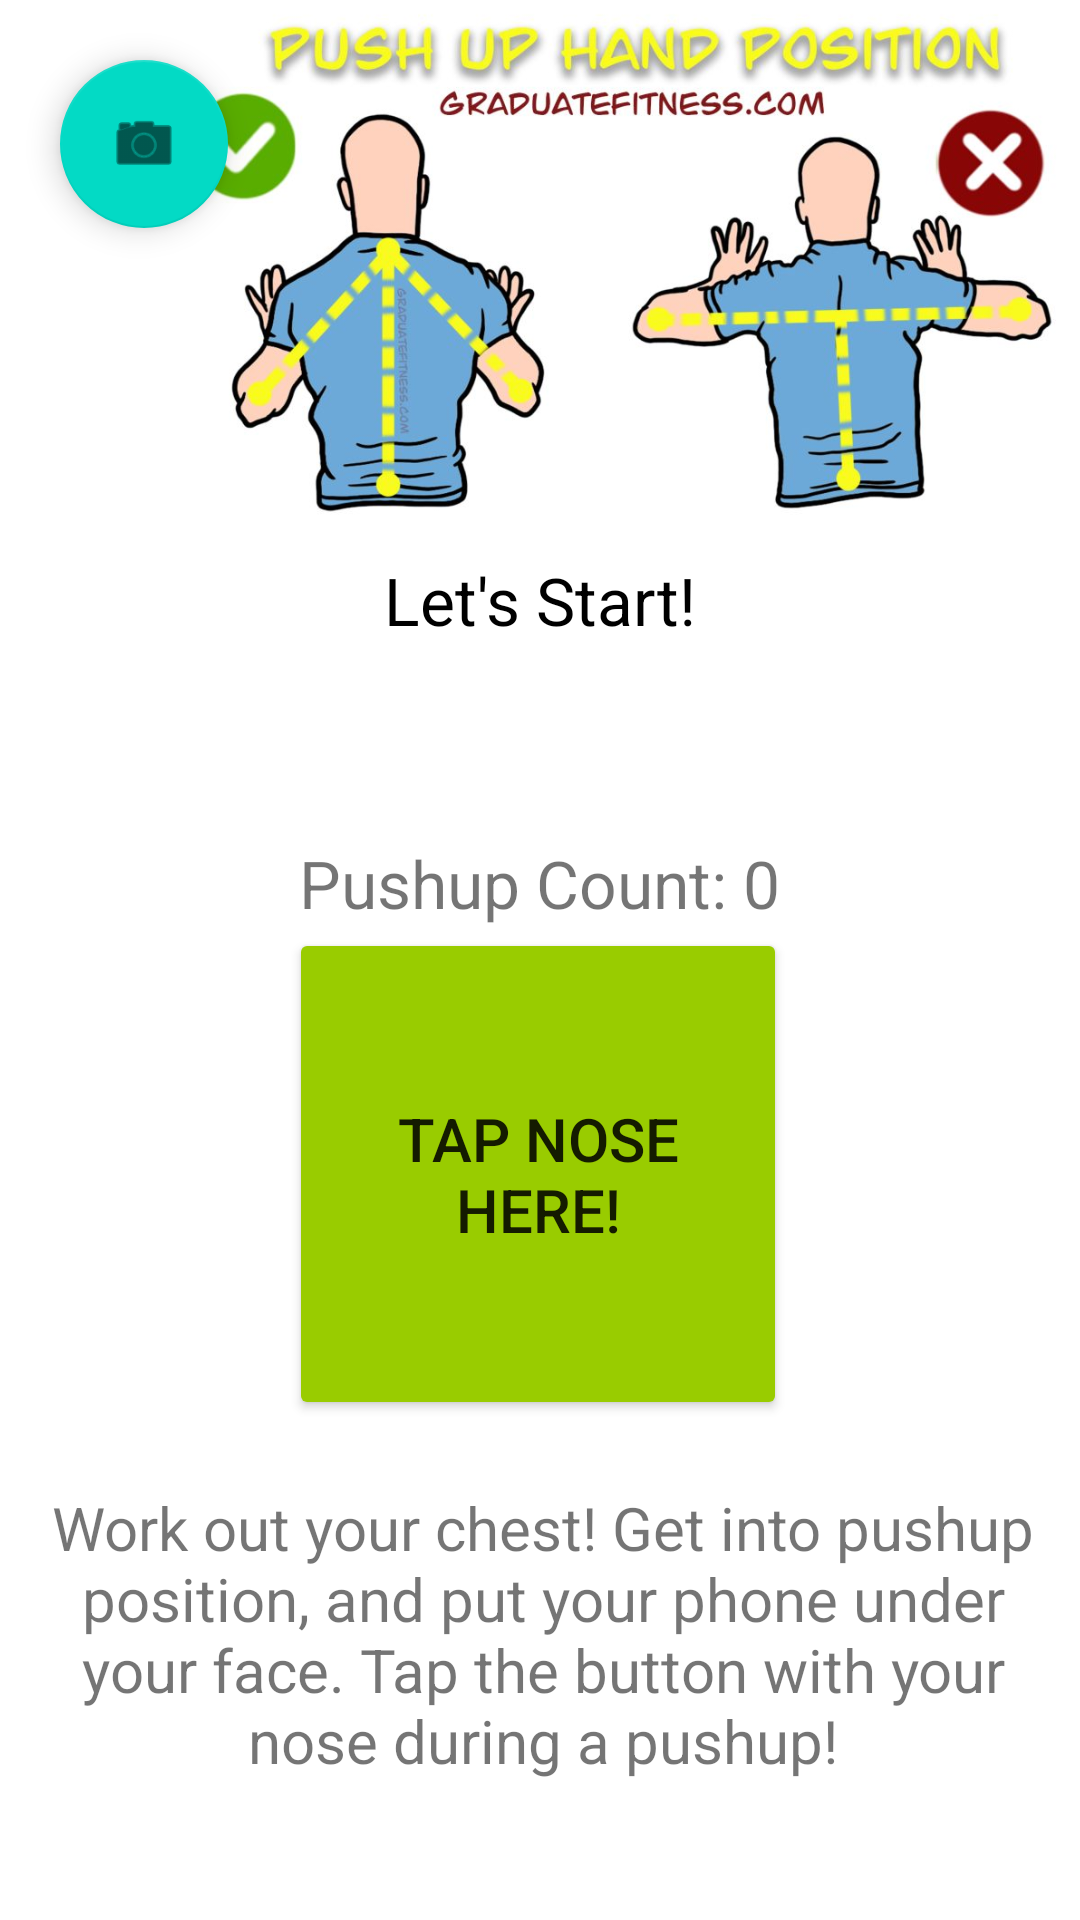

Icons on this 1080x1920 Android screen, each with its box as {"x1": x1, "y1": y1, "x2": x2, "y2": y2}:
camera: {"x1": 60, "y1": 60, "x2": 228, "y2": 228}
